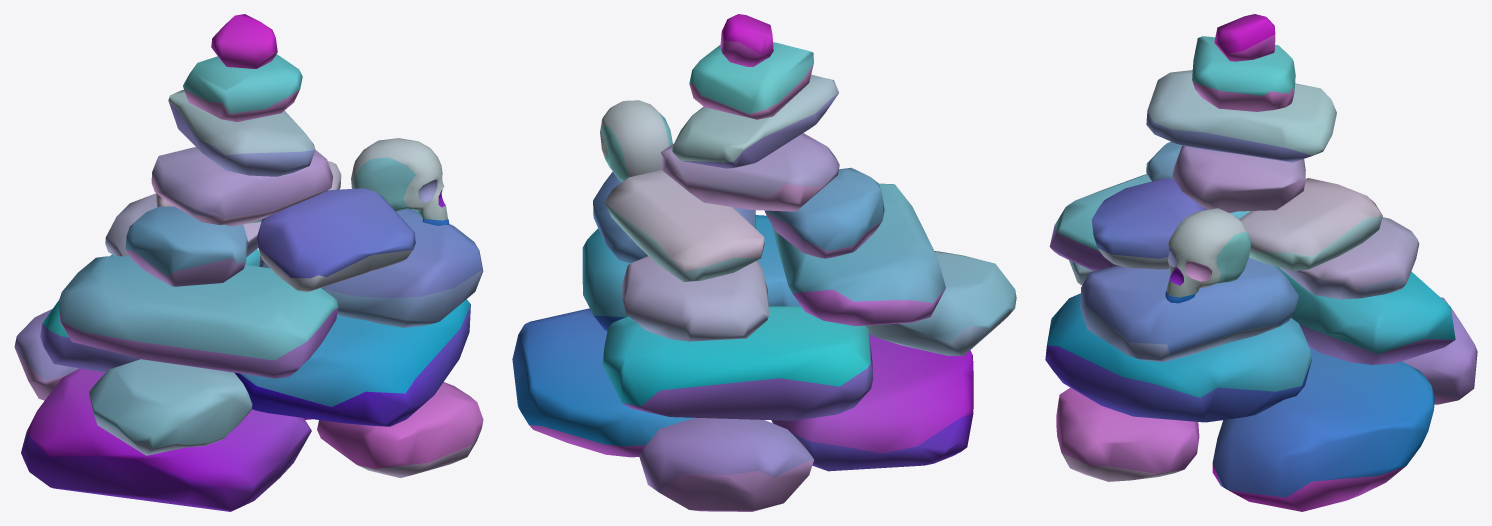
3 renders of one model, left to right at view 1: azimuth 30°, elevation 25°; view 2: azimuth 150°, elevation 25°; view 3: azimuth 270°, elevation 25°, orthographic. The views are drawn at different scales.
Visible parts, largest first — view 1: SM_BlightRoot_01_LOD0; view 2: SM_BlightRoot_01_LOD0; view 3: SM_BlightRoot_01_LOD0.
Part boxes in pixels (x1,y1,x2,y2): SM_BlightRoot_01_LOD0: (14,14,483,511); SM_BlightRoot_01_LOD0: (512,14,1016,511); SM_BlightRoot_01_LOD0: (1045,14,1477,511).
Size of the model in its own units: 1.2 by 1.09 by 1.06.
